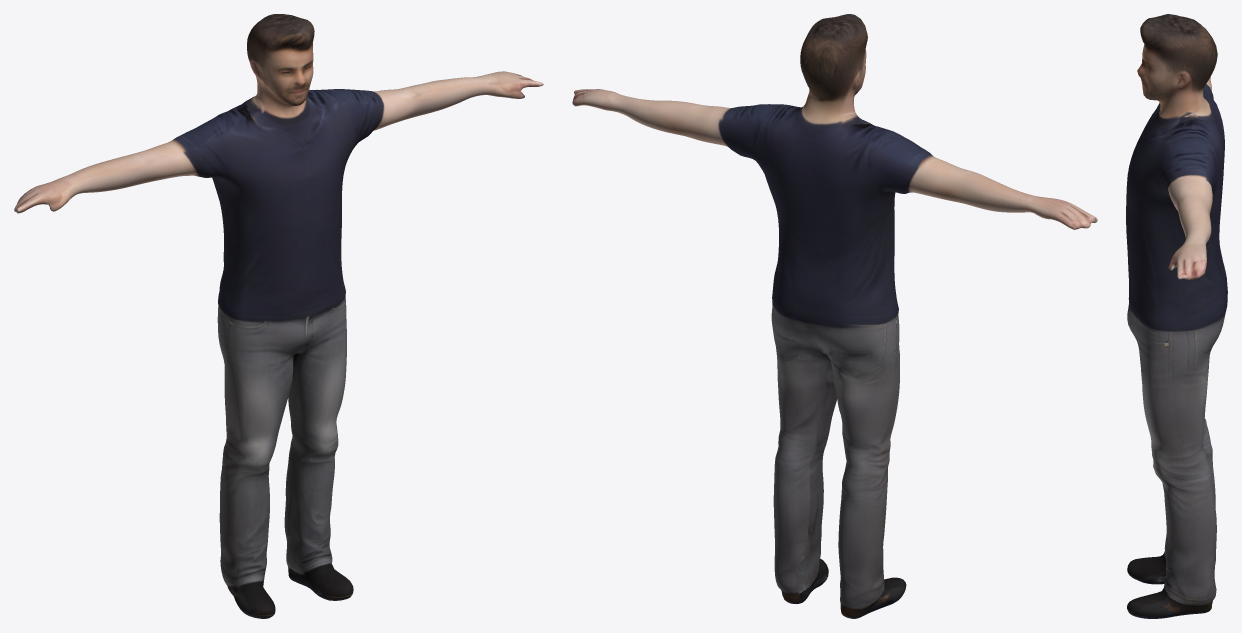
File: Meshy_AI_20_ročný_slovenský_0125132851_texture.fbx
3 views of the same model, side by side, from view 1: azimuth 30°, elevation 25°; view 2: azimuth 150°, elevation 25°; view 3: azimuth 270°, elevation 25° (orthographic).
Parts seen in each view (by area): view 1: Mesh0; view 2: Mesh0; view 3: Mesh0.
Boxes of the visible parts, x1,y1,x2,y2 form: Mesh0: (14, 14, 543, 618); Mesh0: (572, 14, 1097, 618); Mesh0: (1126, 14, 1227, 618).
Bounding box in the file's own units: 191 × 201 × 32.16.
1 material, 1 textured.
